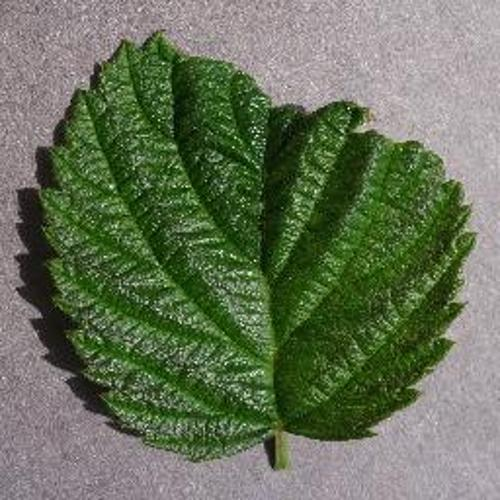Raspberry: (42, 32, 475, 468)
